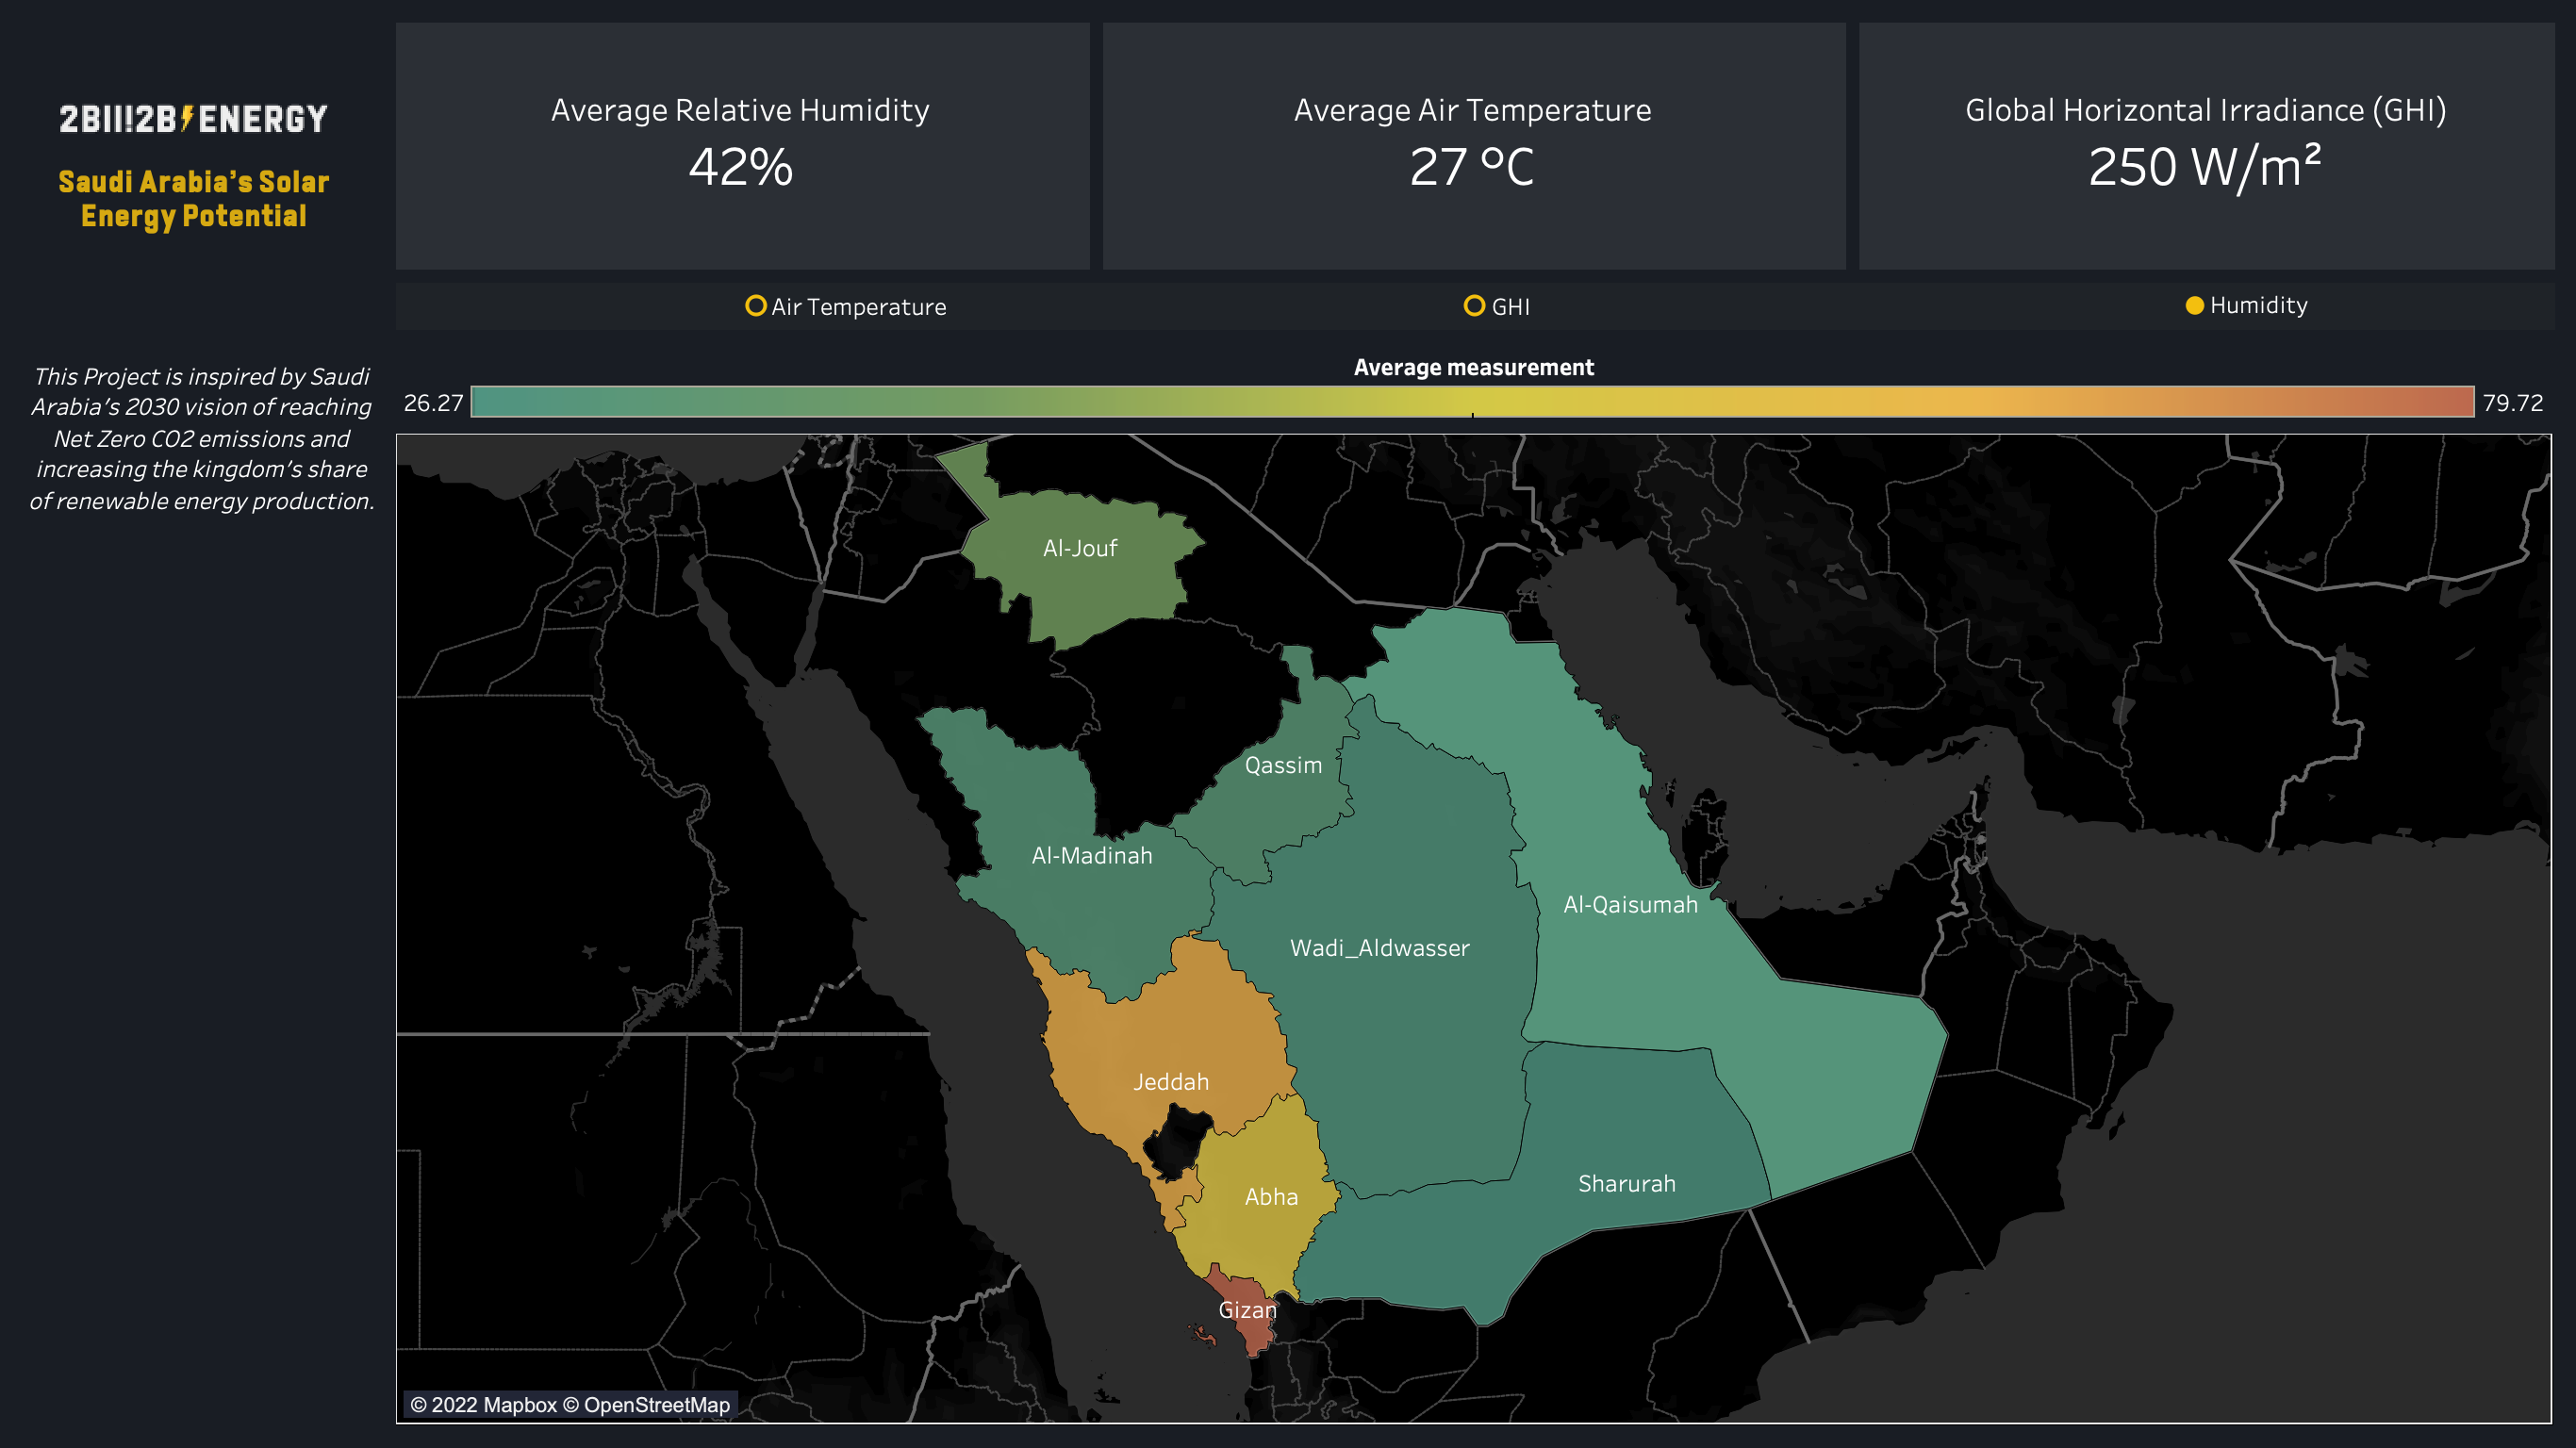

The dashboard page shown, as its layout file describes it:
{"tool":"tableau","page":{"name":"Overview","canvas":[1366,768],"ordinal":1},"visuals":[{"type":"text","box":[8,8,198,450]},{"type":"worksheet","title":"Avg. Humidity","mark":"Automatic","box":[206,8,374.9,138]},{"type":"worksheet","title":"Avg. Temprature","mark":"Automatic","box":[580.9,8,401,138]},{"type":"worksheet","title":"Avg. GHI","mark":"Automatic","box":[981.9,8,376.1,138]},{"type":"image","param":"/Users/hawra/Downloads/Picture1.png","box":[19,30,179,71]},{"type":"text","box":[26,75,154,62]},{"type":"worksheet","title":"Map choice","mark":"Shape","cols":["Map choice","Calculation_1375286796101394438"],"box":[206,146,1152,32]},{"type":"legend","title":"Map","param":"[federated.0xb4gsf1oel52s19rxay40suwxwp].[avg:Calculation_1375286796136030217:qk","box":[206,178,1152,48]},{"type":"worksheet","title":"Map","mark":"Multipolygon","box":[206,226,1152,534]},{"type":"blank","box":[8,458,198,302]}]}

Visuals, with their boxes in screenshot pixels (x1, y1, x2, y2), scaled from the page's 1366x768 canvas onto the 2576x1448 screenshot:
text: (left=15, top=15, right=388, bottom=864)
"Avg. Humidity" worksheet: (left=388, top=15, right=1096, bottom=275)
"Avg. Temprature" worksheet: (left=1096, top=15, right=1852, bottom=275)
"Avg. GHI" worksheet: (left=1852, top=15, right=2561, bottom=275)
image: (left=36, top=57, right=373, bottom=190)
text: (left=49, top=141, right=339, bottom=258)
"Map choice" worksheet (Shape marks): (left=388, top=275, right=2561, bottom=336)
"Map" legend: (left=388, top=336, right=2561, bottom=426)
"Map" worksheet (Multipolygon marks): (left=388, top=426, right=2561, bottom=1433)
blank: (left=15, top=864, right=388, bottom=1433)
